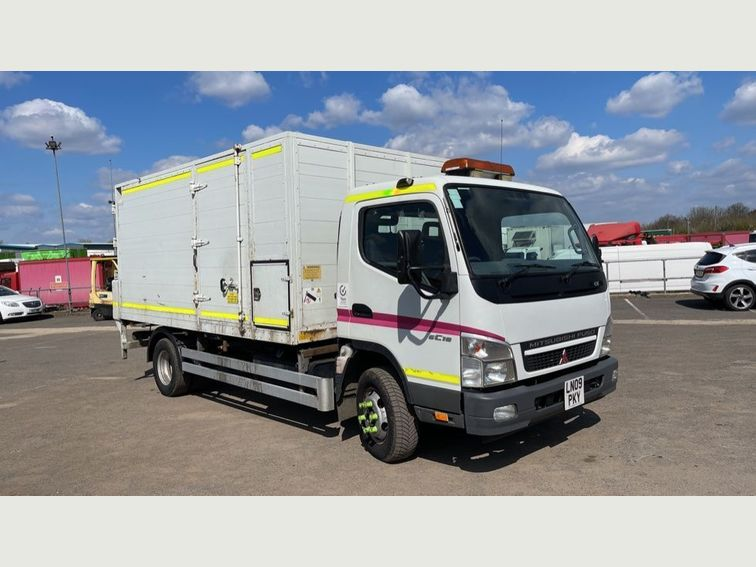Car: (689, 239, 755, 311)
Semi: (112, 133, 617, 463)
